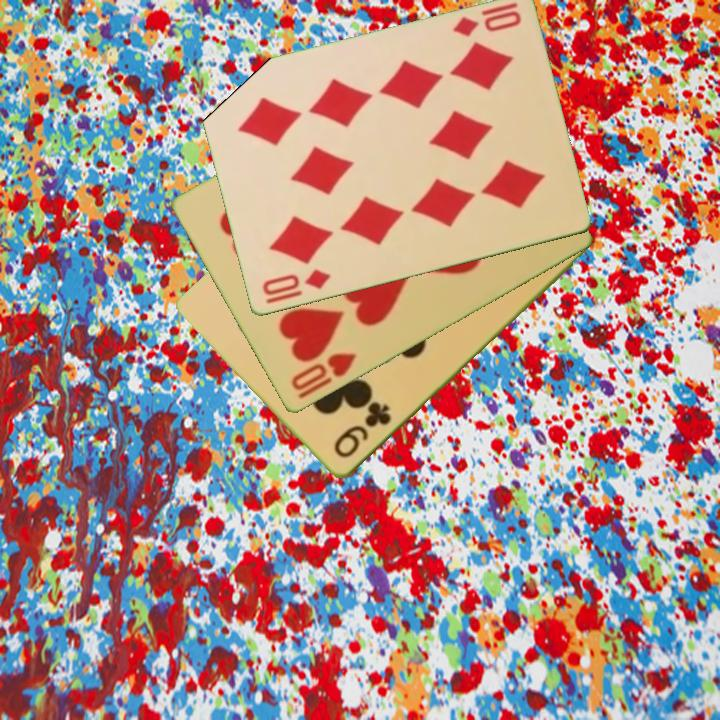10d: (449, 7, 524, 41), (258, 266, 333, 299)
10h: (287, 349, 360, 394)
9c: (330, 400, 394, 462)
